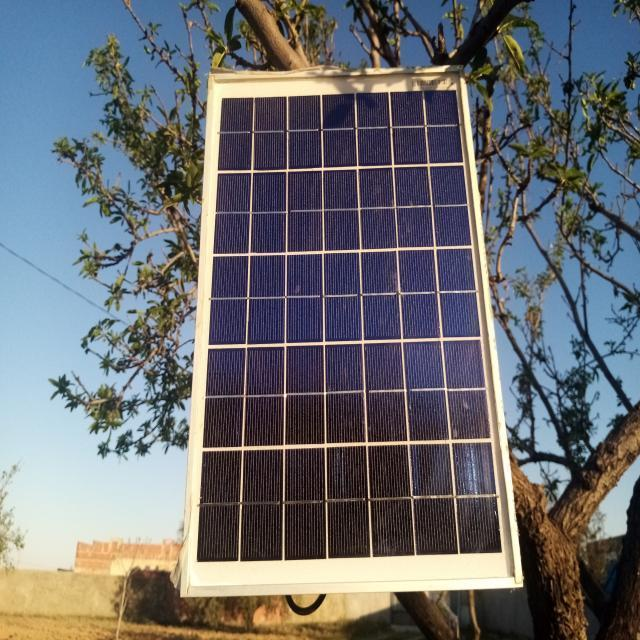Normal Solar Panel: (183, 68, 522, 589)
